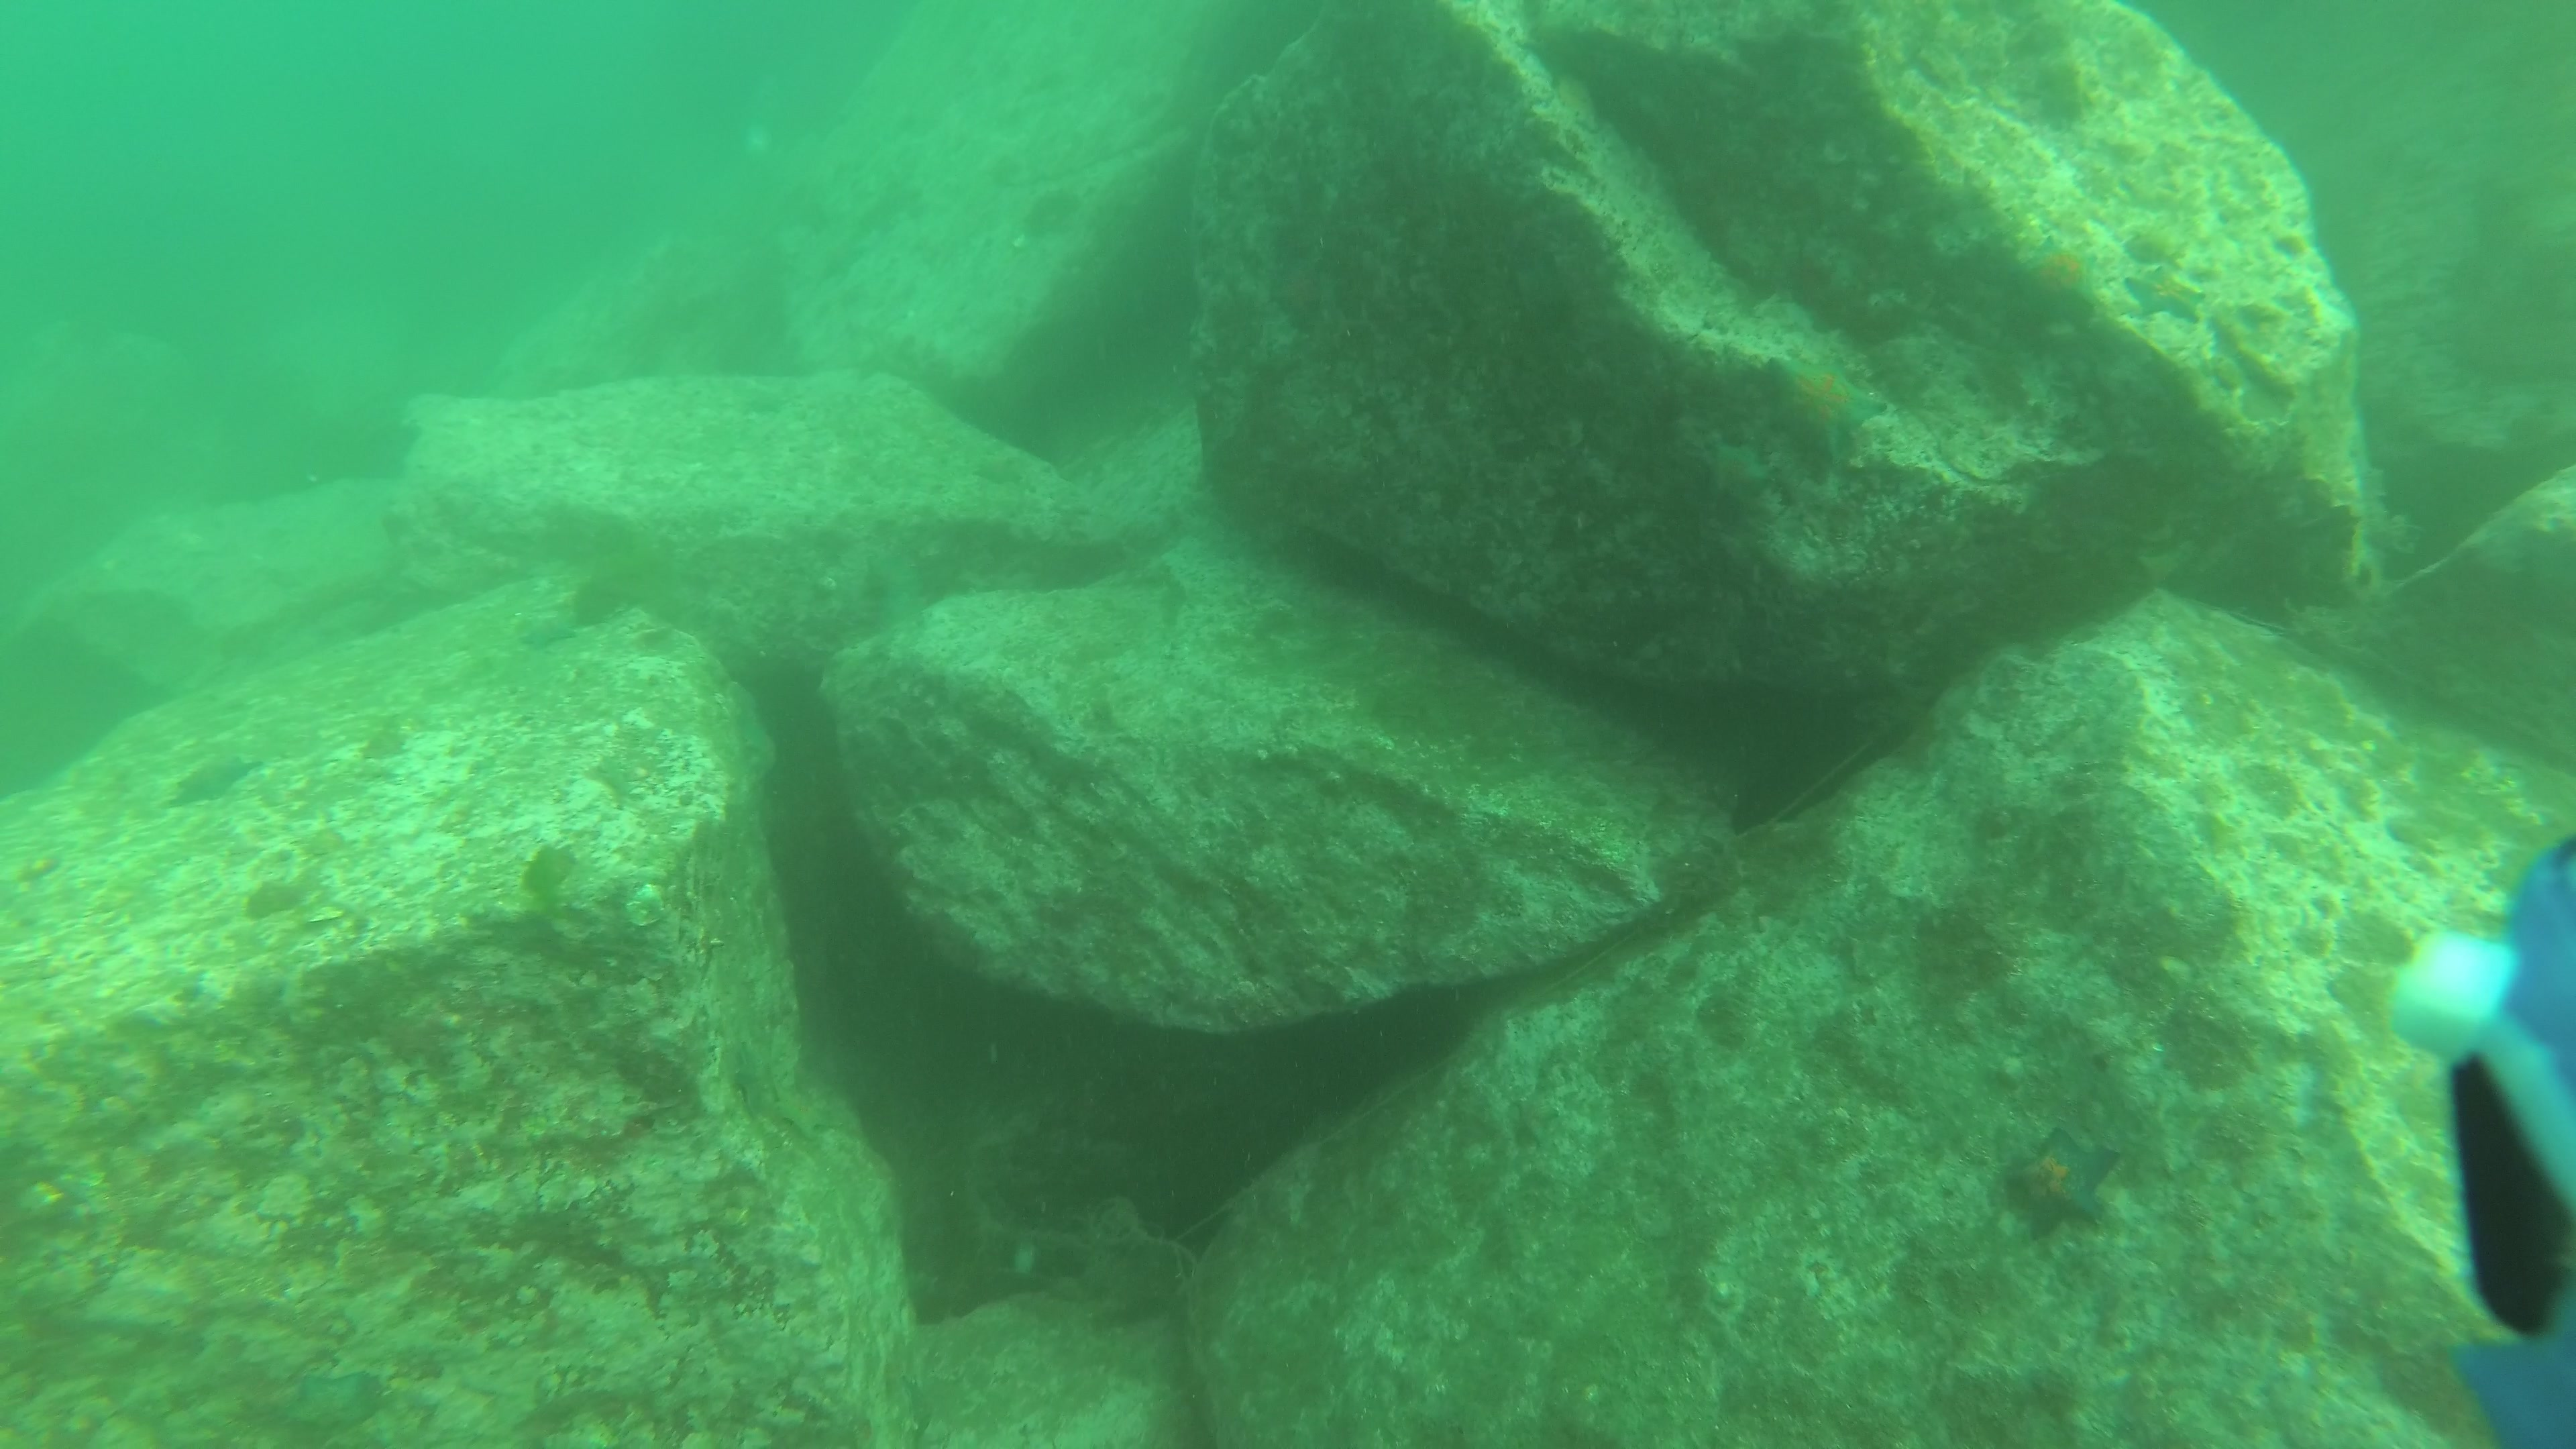echinus: (1016, 184, 1088, 237)
starfish: (1996, 1120, 2130, 1244), (1757, 349, 1897, 467), (269, 1366, 395, 1449), (2005, 230, 2107, 322), (2125, 255, 2213, 331), (161, 748, 265, 810), (511, 612, 589, 658), (970, 448, 1028, 490), (738, 384, 793, 421)
